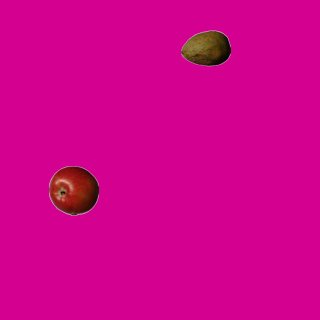Apple Braeburn: (48, 165, 98, 215)
Papaya: (180, 23, 230, 73)
